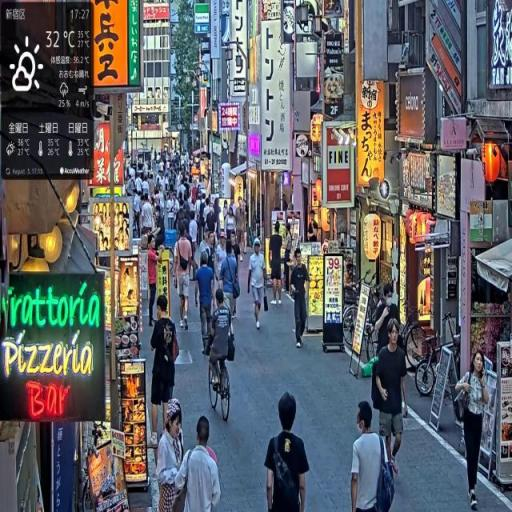person: (454, 351, 495, 512), (372, 318, 411, 479), (264, 391, 311, 512), (168, 414, 221, 512), (351, 400, 397, 512), (150, 292, 180, 449), (207, 287, 236, 411), (157, 400, 187, 512), (195, 247, 218, 355), (173, 223, 195, 332), (289, 250, 311, 351), (248, 240, 270, 332)
